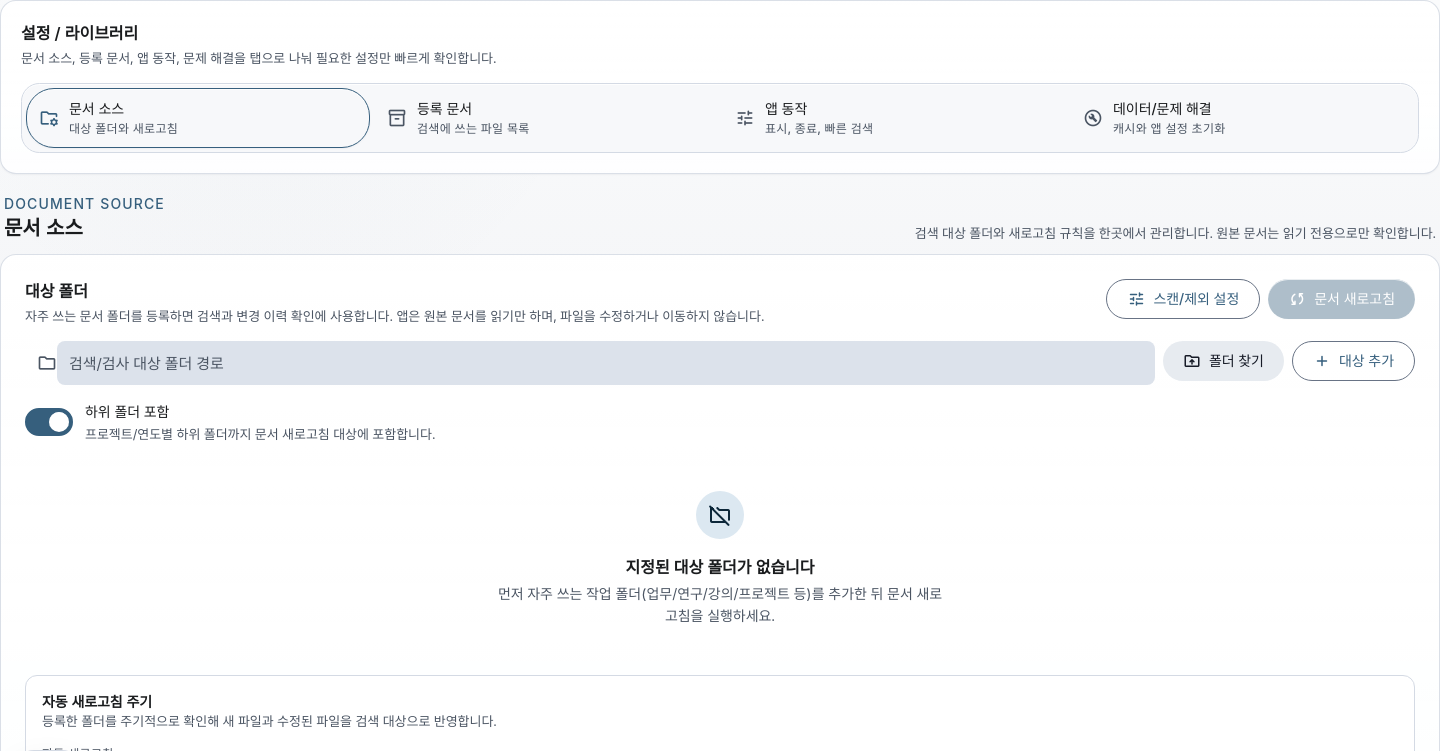
Test: FileManager › initial load › shows registered files in the page list
The width and height of the screenshot is (1440, 751).
Click the tab "등록 문서 검색에 쓰는 파일 목록": {"x": 445, "y": 108} left=374, top=88, right=718, bottom=148
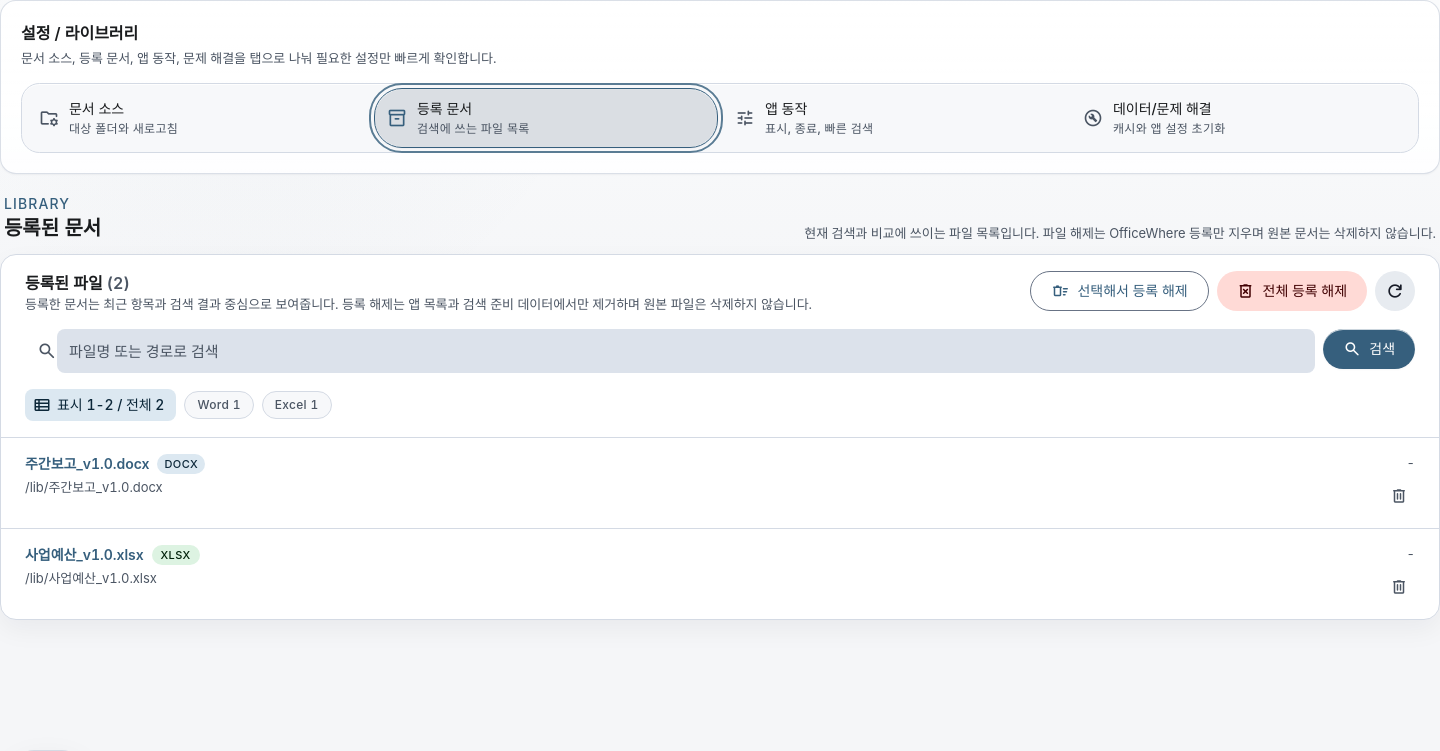
Result: the text "주간보고_v1.0.docx" is shown at left=25, top=454, right=149, bottom=474
Result: the text "사업예산_v1.0.xlsx" is shown at left=25, top=545, right=144, bottom=565
